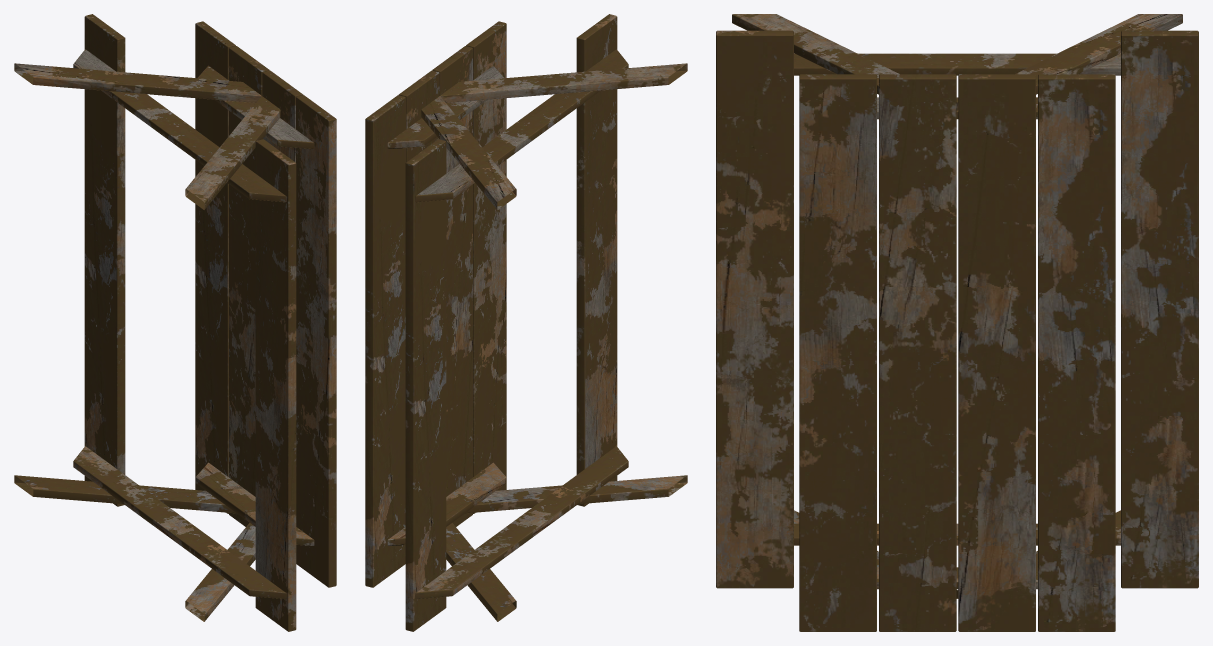
File: cP_PicnicTable03.dae
The picture shows the model from 3 angles, left to right: view 1: azimuth 30°, elevation 25°; view 2: azimuth 150°, elevation 25°; view 3: azimuth 270°, elevation 25°; orthographic projection. The views are drawn at different scales.
Visible parts, largest first — view 1: cP_PicnicTable03.001; view 2: cP_PicnicTable03.001; view 3: cP_PicnicTable03.001.
Boxes of the visible parts, bbox=[...] form: cP_PicnicTable03.001: bbox=[14, 14, 336, 631]; cP_PicnicTable03.001: bbox=[365, 14, 687, 631]; cP_PicnicTable03.001: bbox=[716, 14, 1198, 631].
Size of the model in its own units: 0.8299 by 1.82 by 2.3.
